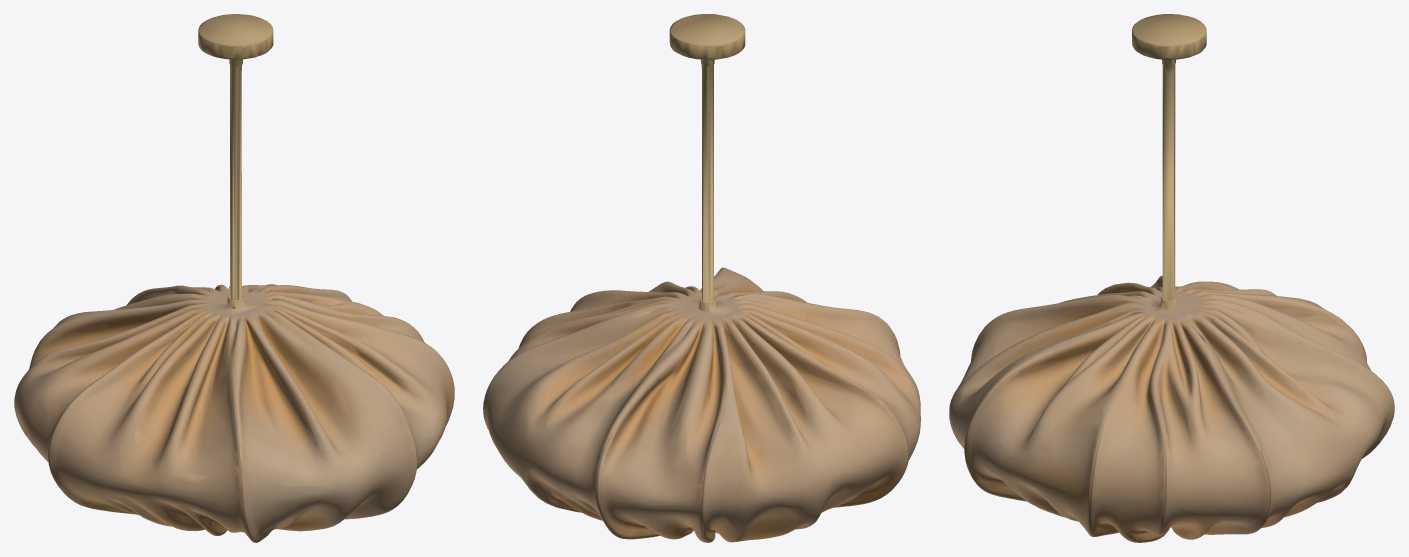
The picture shows the model from 3 angles, left to right: view 1: azimuth 30°, elevation 25°; view 2: azimuth 150°, elevation 25°; view 3: azimuth 270°, elevation 25°; orthographic projection.
Parts seen in each view (by area): view 1: material; view 2: material; view 3: material.
Boxes of the visible parts, bbox=[...] form: material: bbox=[14, 14, 454, 542]; material: bbox=[483, 14, 920, 542]; material: bbox=[949, 14, 1394, 542].
Bounding box in the file's own units: 0.9155 × 1.09 × 0.917.
Materials: 1 (1 with a texture image).
